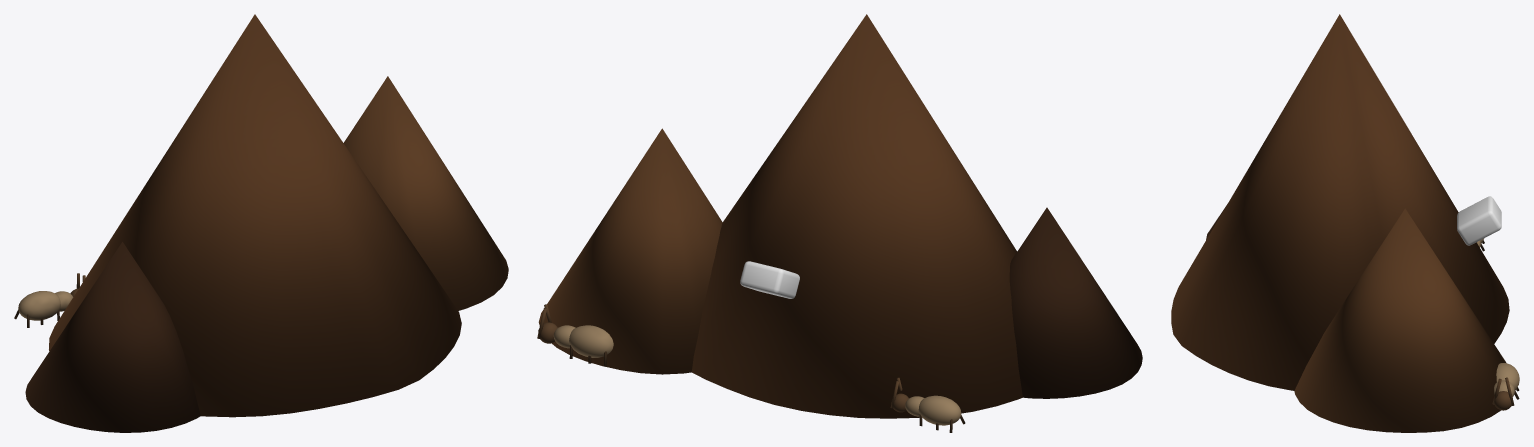
File: termite-colony-mound.obj
3 renders of one model, left to right at view 1: azimuth 30°, elevation 25°; view 2: azimuth 150°, elevation 25°; view 3: azimuth 270°, elevation 25°, orthographic. The views are drawn at different scales.
Visible parts, largest first — view 1: termite-colony-mound; view 2: termite-colony-mound; view 3: termite-colony-mound.
Boxes of the visible parts, x1,y1,x2,y2 form: termite-colony-mound: (14,14,508,432); termite-colony-mound: (537,14,1142,432); termite-colony-mound: (1171,14,1519,432).
Size of the model in its own units: 2.5 by 1.5 by 1.6.
